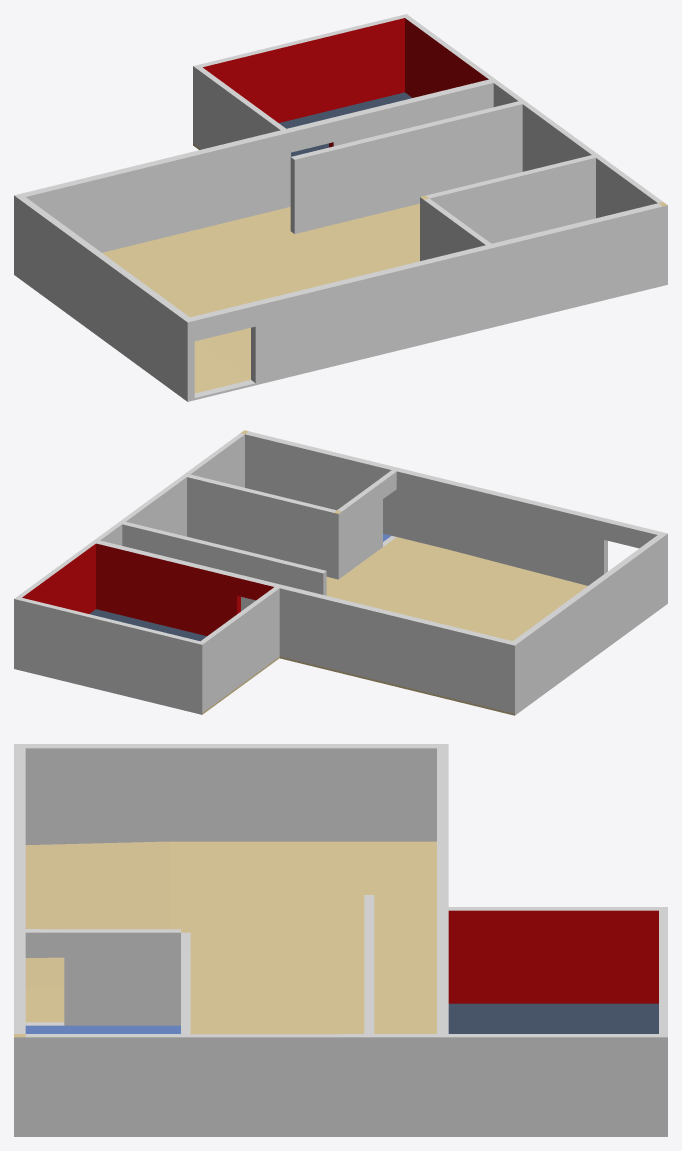
File: tempbuIld.fbx
The picture shows the model from 3 angles, top to bottom: view 1: azimuth 30°, elevation 25°; view 2: azimuth 150°, elevation 25°; view 3: azimuth 270°, elevation 25°; orthographic projection. The views are drawn at different scales.
Parts seen in each view (by area): view 1: Plane; view 2: Plane; view 3: Plane.
Boxes of the visible parts, left/top/right/bottom form: Plane: left=14, top=14, right=667, bottom=401; Plane: left=14, top=430, right=667, bottom=715; Plane: left=14, top=744, right=667, bottom=1136.
Size of the model in its own units: 6047 by 956 by 5699.
